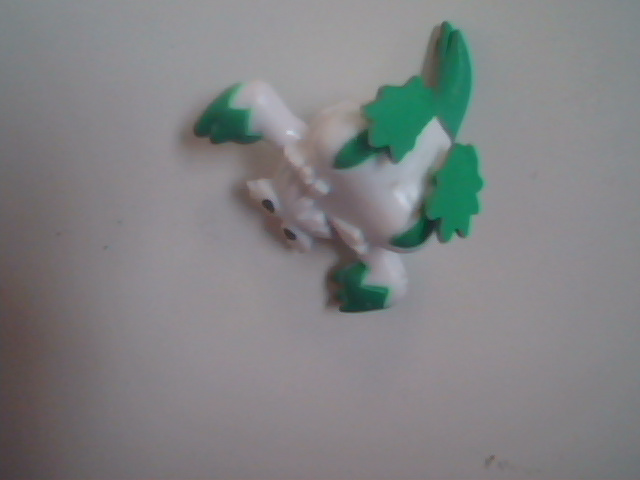abomasnow: (187, 19, 556, 357)
